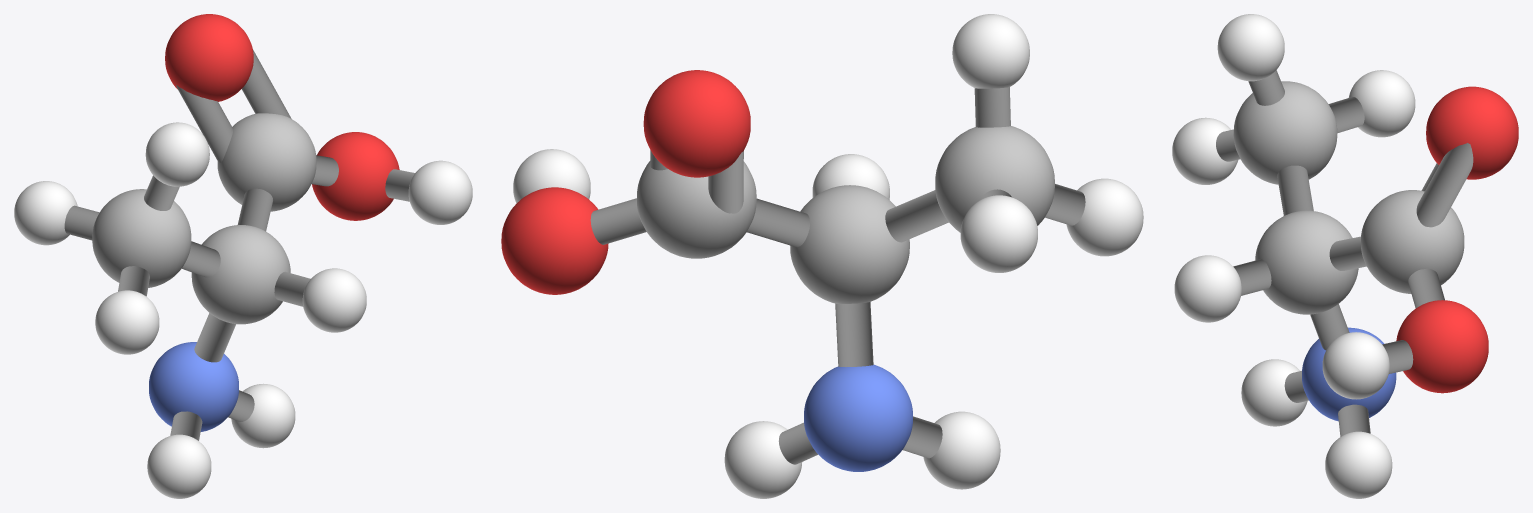
The model's file is Lop10_Protein_Tab1_alanine.glb.
The picture shows the model from 3 angles, left to right: view 1: azimuth 30°, elevation 25°; view 2: azimuth 150°, elevation 25°; view 3: azimuth 270°, elevation 25°; orthographic projection. The views are drawn at different scales.
Parts seen in each view (by area): view 1: Object_5, Object_3, Object_6, Object_4, Object_2; view 2: Object_5, Object_3, Object_4, Object_6, Object_2; view 3: Object_5, Object_3, Object_6, Object_4, Object_2.
Boxes of the visible parts, left/top/right/bottom form: Object_5: left=14, top=122, right=472, bottom=498; Object_3: left=92, top=113, right=316, bottom=324; Object_6: left=64, top=50, right=414, bottom=440; Object_4: left=165, top=14, right=399, bottom=220; Object_2: left=149, top=342, right=238, bottom=431; Object_5: left=513, top=14, right=1143, bottom=498; Object_3: left=637, top=126, right=1054, bottom=303; Object_4: left=501, top=70, right=750, bottom=294; Object_6: left=590, top=87, right=1085, bottom=464; Object_2: left=804, top=364, right=912, bottom=471; Object_5: left=1172, top=14, right=1415, bottom=498; Object_3: left=1233, top=81, right=1464, bottom=314; Object_6: left=1216, top=70, right=1473, bottom=436; Object_4: left=1396, top=86, right=1518, bottom=393; Object_2: left=1302, top=327, right=1396, bottom=421.
Size of the model in its own units: 5.22 by 4.42 by 3.39.
